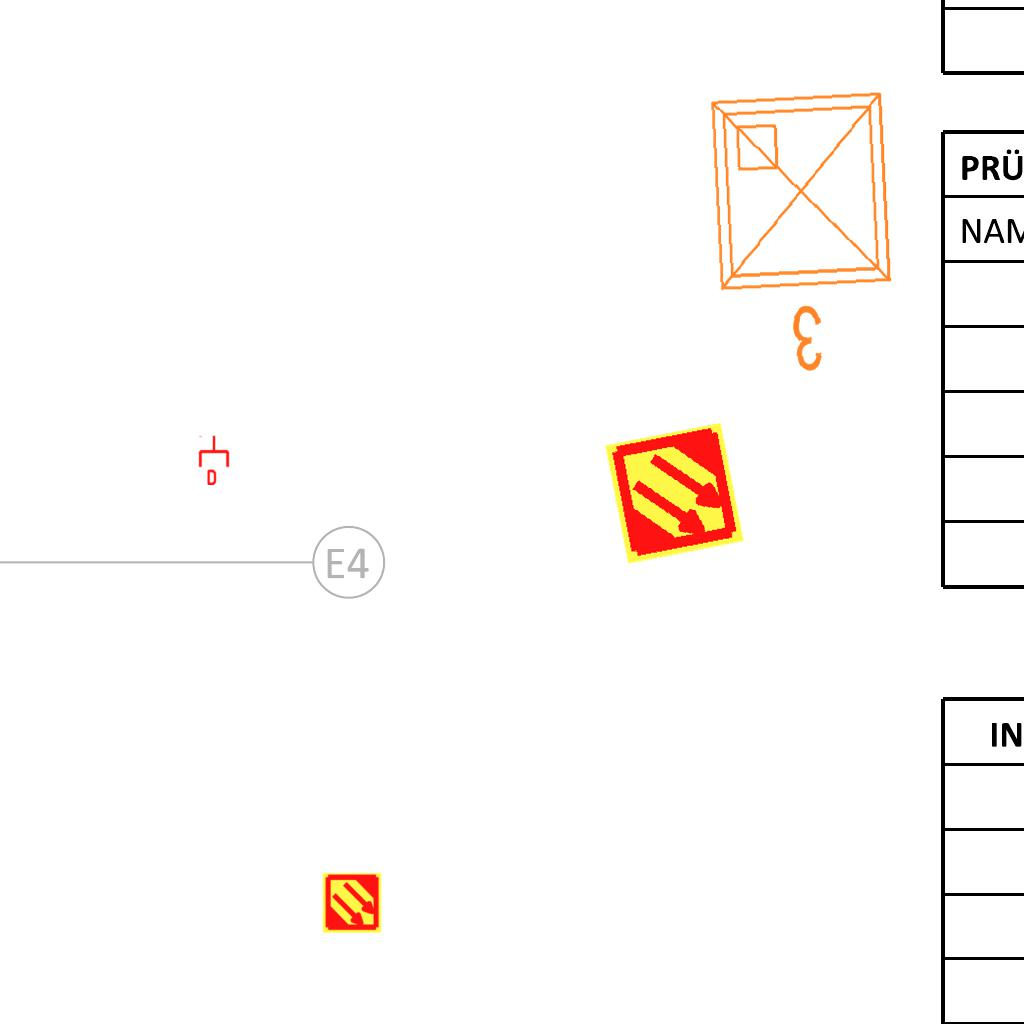ASR_Ansaugrauchmelder: (601, 420, 748, 567), (321, 872, 383, 934)
Datenanschluss_einfach: (197, 435, 231, 485)
Einbaudownlights_LED_Konferenzraeume: (695, 76, 919, 388)
